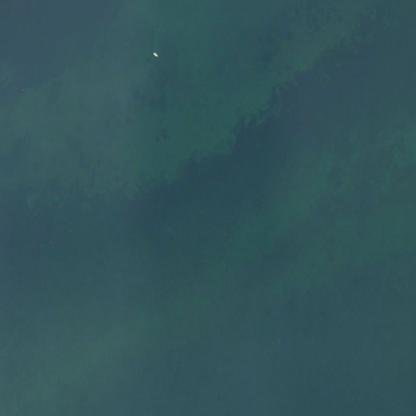ship: (150, 50, 157, 58)
